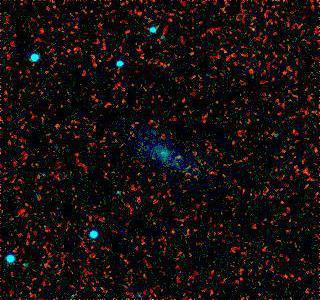star: (165, 141, 195, 171)
